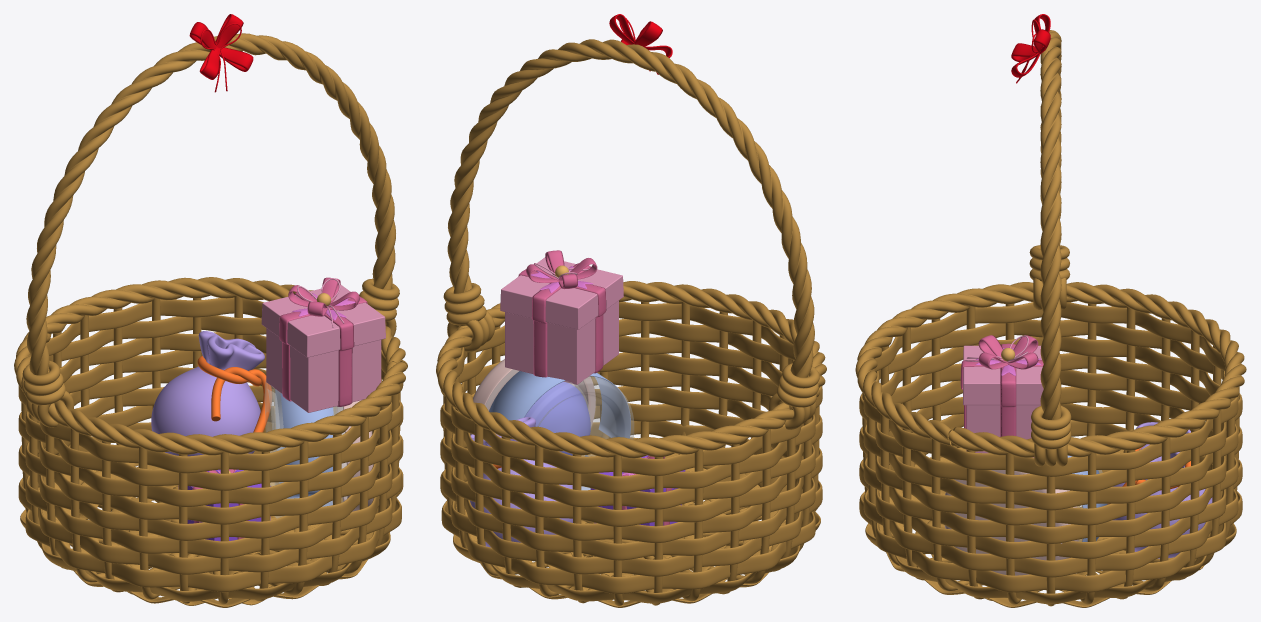
The model's file is basket.glb.
3 renders of one model, left to right at view 1: azimuth 30°, elevation 25°; view 2: azimuth 150°, elevation 25°; view 3: azimuth 270°, elevation 25°, orthographic.
Visible parts, largest first — view 1: Circle.003, Circle.002, Cylinder.001, Giftbox01.001, Cube.023, Cylinder, Cylinder.002, Cylinder.003, Cylinder.004, Cylinder.005, Cylinder.006, Cylinder.007 (+11 smaller); view 2: Circle.003, Cylinder.001, Circle.002, Giftbox01.001, Cylinder, Cylinder.002, Cylinder.003, Cylinder.004, Cylinder.005, Cylinder.006, Cylinder.007, Cylinder.008 (+12 smaller); view 3: Circle.002, Cylinder.001, Cylinder, Cylinder.002, Cylinder.003, Cylinder.004, Cylinder.005, Circle.003, Cylinder.006, Cylinder.007, Cylinder.008, Giftbox01.001 (+9 smaller).
Boxes of the visible parts, box(x1,y1,x2,y2) form: Circle.003: box(26, 33, 395, 375); Circle.002: box(14, 277, 407, 455); Cylinder.001: box(21, 295, 400, 604); Giftbox01.001: box(261, 284, 385, 412); Cube.023: box(151, 331, 271, 456); Cylinder: box(18, 297, 403, 473); Cylinder.002: box(25, 315, 401, 490); Cylinder.003: box(18, 332, 403, 506); Cylinder.004: box(25, 350, 401, 524); Cylinder.005: box(18, 367, 403, 540); Cylinder.006: box(25, 385, 401, 558); Cylinder.007: box(18, 402, 403, 574); Circle.003: box(447, 39, 814, 409); Cylinder.001: box(443, 301, 819, 605); Circle.002: box(436, 281, 826, 458); Giftbox01.001: box(500, 257, 623, 384); Cylinder: box(440, 302, 822, 475); Cylinder.002: box(441, 319, 815, 493); Cylinder.003: box(440, 335, 822, 509); Cylinder.004: box(441, 352, 815, 526); Cylinder.005: box(440, 369, 822, 542); Cylinder.006: box(441, 386, 815, 560); Cylinder.007: box(440, 403, 822, 576); Cylinder.008: box(441, 420, 818, 593); Circle.002: box(855, 282, 1246, 457); Cylinder.001: box(862, 303, 1239, 606); Cylinder: box(863, 302, 1238, 476); Cylinder.002: box(859, 319, 1242, 491); Cylinder.003: box(863, 336, 1238, 510); Cylinder.004: box(859, 353, 1242, 525); Cylinder.005: box(863, 370, 1238, 543); Circle.003: box(1040, 30, 1061, 419); Cylinder.006: box(859, 386, 1242, 558); Cylinder.007: box(863, 403, 1238, 577); Cylinder.008: box(859, 420, 1242, 592); Giftbox01.001: box(963, 345, 1043, 457).
Bounding box in the file's own units: 2.3 × 3.17 × 2.11.
